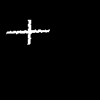single_crochet: (7, 20, 49, 43)
